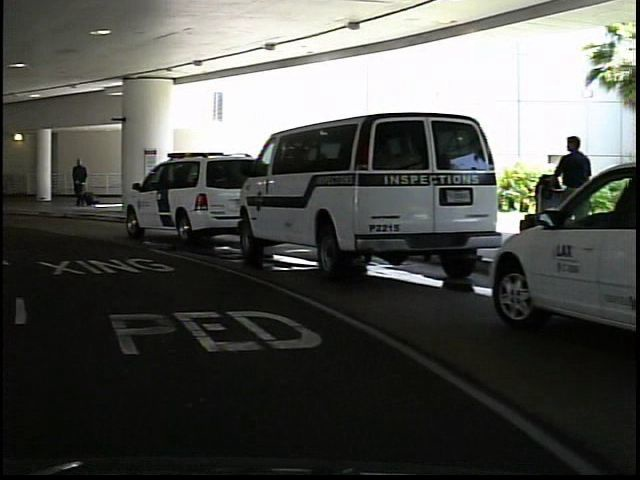person: (549, 132, 592, 263), (65, 154, 90, 214)
